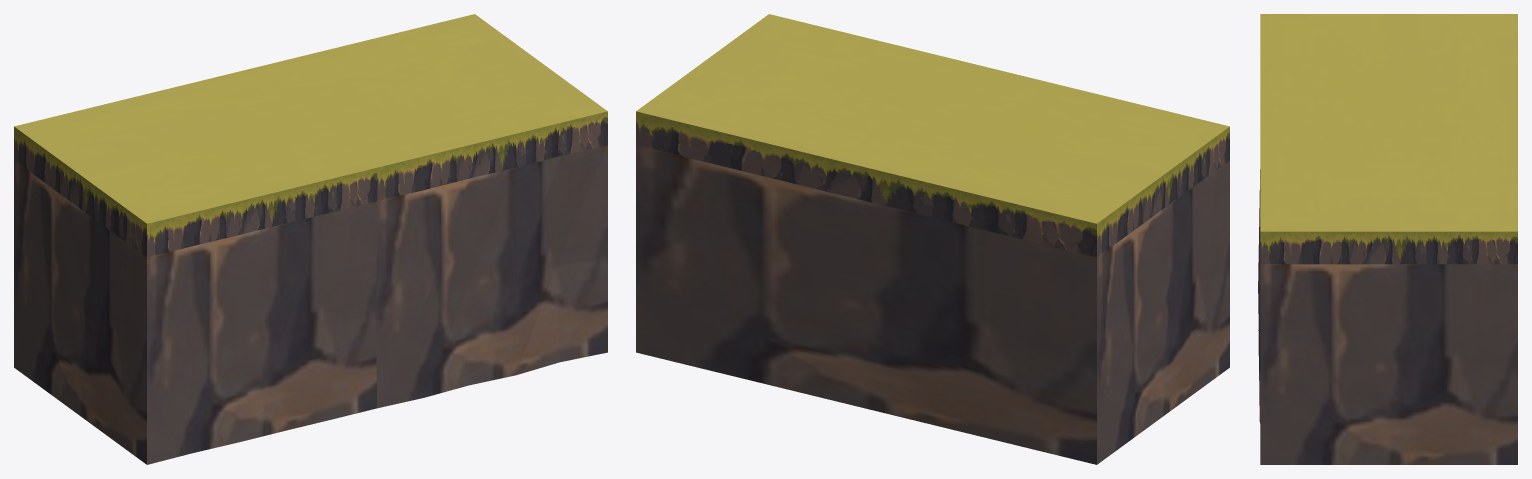
The model's file is SM_RC_Terrain_IslandEdge_Straight_16m.gltf.
3 views of the same model, side by side, from view 1: azimuth 30°, elevation 25°; view 2: azimuth 150°, elevation 25°; view 3: azimuth 270°, elevation 25° (orthographic). The views are drawn at different scales.
Parts seen in each view (by area): view 1: SM_RC_Terrain_IslandEdge_Straight_16m; view 2: SM_RC_Terrain_IslandEdge_Straight_16m; view 3: SM_RC_Terrain_IslandEdge_Straight_16m.
Boxes of the visible parts, x1=… form: SM_RC_Terrain_IslandEdge_Straight_16m: x1=14, y1=14, x2=607, y2=464; SM_RC_Terrain_IslandEdge_Straight_16m: x1=636, y1=14, x2=1229, y2=464; SM_RC_Terrain_IslandEdge_Straight_16m: x1=1258, y1=14, x2=1517, y2=464.
Bounding box in the file's own units: 16 × 8 × 8.07.
Materials: 1 (1 with a texture image).
